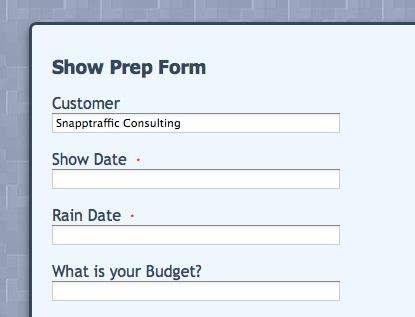field: (50, 111, 341, 134), (50, 167, 341, 190), (50, 223, 341, 246), (51, 279, 341, 302)
field_with_label: (49, 263, 342, 303), (48, 96, 342, 135), (49, 152, 342, 191), (49, 209, 342, 247)
